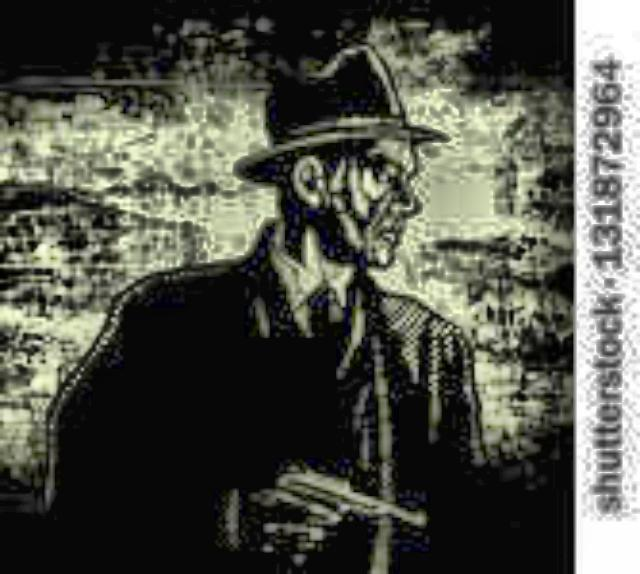pistol: (245, 449, 425, 556)
